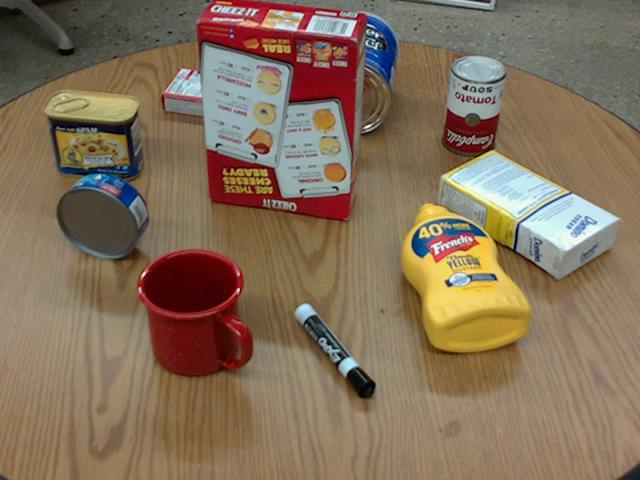cracker_box: (196, 0, 366, 217)
gelatin_box: (160, 69, 241, 119)
large_marker: (293, 303, 374, 397)
master_chef_can: (308, 12, 396, 133)
mug: (136, 248, 253, 376)
mustard_bottle: (399, 202, 529, 351)
potted_meat_can: (42, 91, 142, 180)
sugar_box: (435, 153, 619, 275)
tomato_soup_can: (439, 54, 503, 154)
tuna_fish_can: (56, 172, 147, 259)
